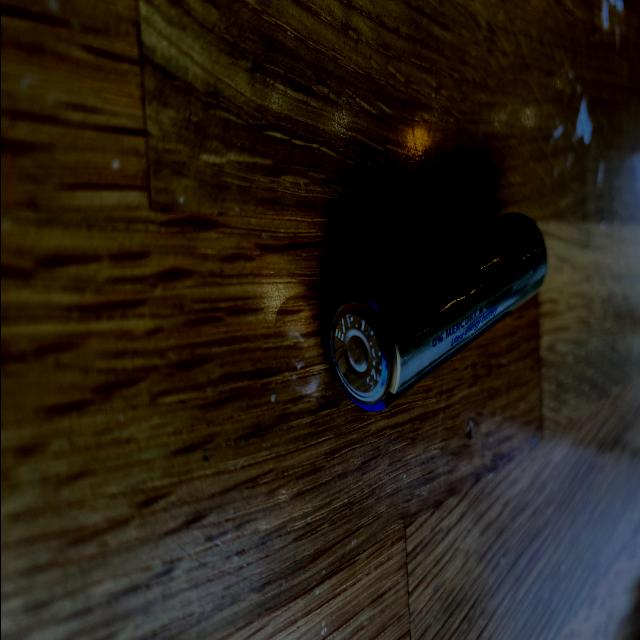AA: (326, 212, 548, 413)
